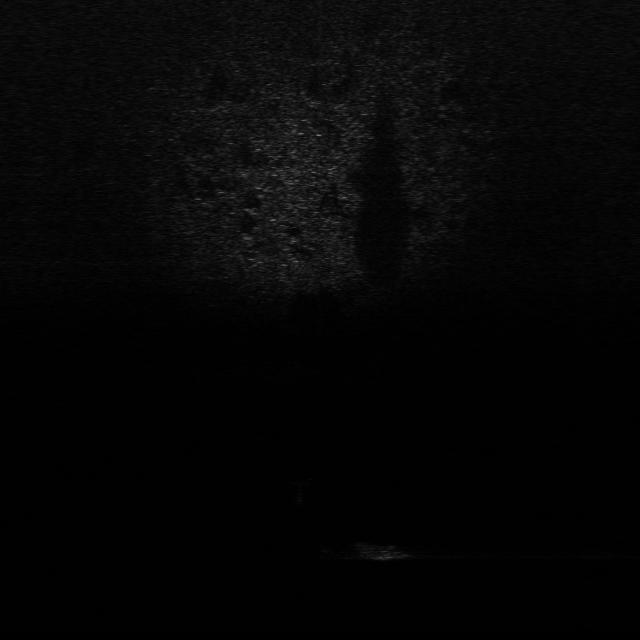metal bucket: (347, 537, 413, 564)
